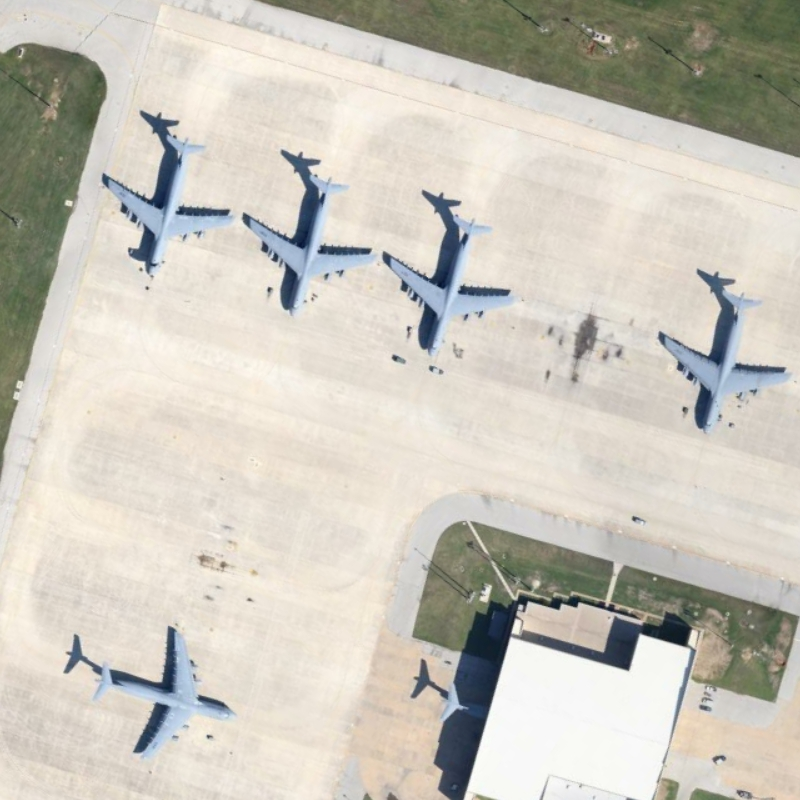A4: (97, 118, 237, 284), (236, 166, 376, 320), (382, 208, 521, 362), (88, 621, 237, 763), (657, 282, 793, 434)
